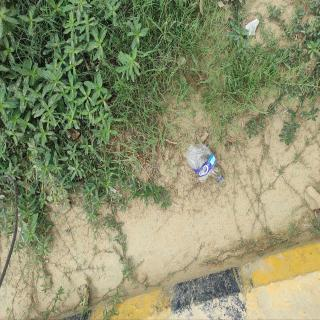Plastic-bottle: (184, 138, 227, 189)
